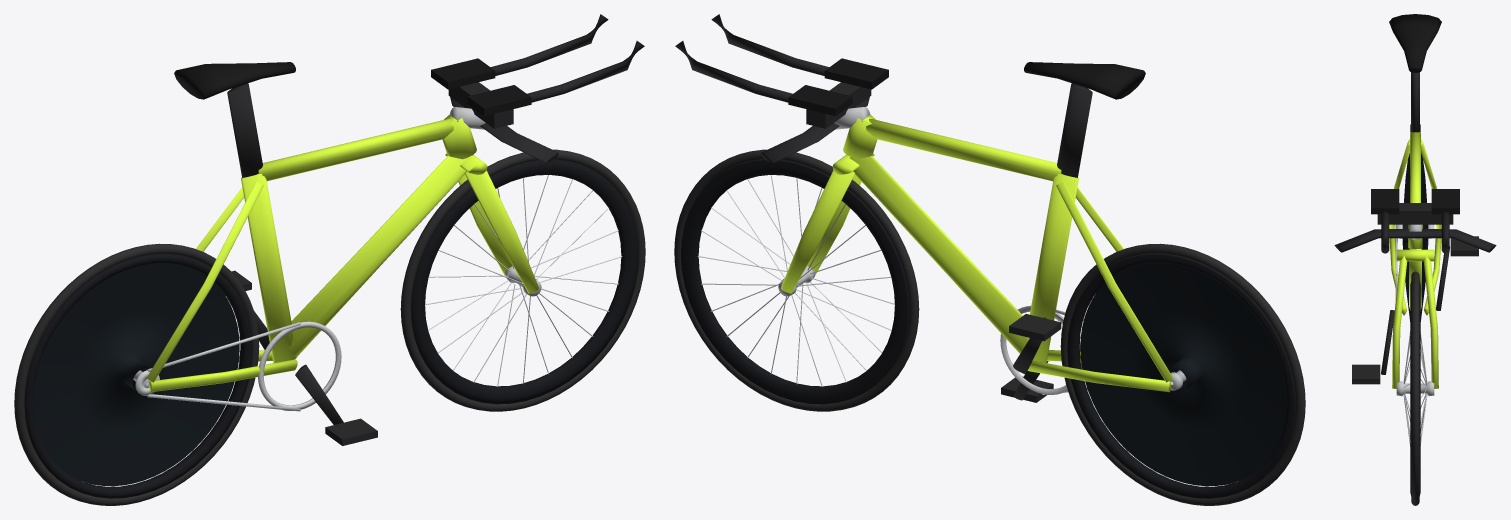
File: bike.glb
The picture shows the model from 3 angles, left to right: view 1: azimuth 30°, elevation 25°; view 2: azimuth 150°, elevation 25°; view 3: azimuth 270°, elevation 25°; orthographic projection. The views are drawn at different scales.
Parts seen in each view (by area): view 1: wheel_rear_disc, wheel_front_rim, wheel_rear_rim, wheel_rear_tyre, down_tube, wheel_front_tyre, seat_tube, top_tube, wheel_front_spokes, saddle, fork_l, seatstay_l (+13 smaller); view 2: wheel_rear_disc, wheel_front_rim, wheel_rear_rim, wheel_rear_tyre, wheel_front_tyre, down_tube, top_tube, seat_tube, wheel_front_spokes, saddle, fork_r, seatstay_r (+12 smaller); view 3: wheel_front_tyre, saddle, base_bar, pad_riser, fork_l, fork_r, wheel_rear_disc, wheel_front_rim, top_tube, armpad_l, armpad_r, wheel_front_spokes (+14 smaller).
Boxes of the visible parts, x1,y1,x2,y2 form: wheel_rear_disc: (33,263,239,486); wheel_front_rim: (411,159,638,404); wheel_rear_rim: (24,254,252,498); wheel_rear_tyre: (14,243,259,505); down_tube: (287,156,470,356); wheel_front_tyre: (400,149,645,411); seat_tube: (241,173,296,362); top_tube: (258,119,453,181); wheel_front_spokes: (425,175,622,386); saddle: (174,62,295,99); fork_l: (464,170,538,293); seatstay_l: (146,181,263,382); wheel_rear_disc: (1080,263,1286,486); wheel_front_rim: (681,159,908,404); wheel_rear_rim: (1067,254,1295,498); wheel_rear_tyre: (1060,243,1305,505); wheel_front_tyre: (674,149,919,411); down_tube: (849,156,1027,353); top_tube: (866,119,1061,181); seat_tube: (1027,173,1078,362); wheel_front_spokes: (697,175,894,386); saddle: (1024,62,1145,99); fork_r: (781,170,855,293); seatstay_r: (1056,181,1173,382); wheel_front_tyre: (1411,271,1419,505); saddle: (1389,14,1441,72); base_bar: (1334,229,1496,252); pad_riser: (1377,203,1453,224); fork_l: (1392,255,1407,388); fork_r: (1423,255,1438,388); wheel_rear_disc: (1402,153,1428,321); wheel_front_rim: (1410,281,1420,495); top_tube: (1410,132,1420,202); armpad_l: (1371,189,1399,214); armpad_r: (1431,189,1459,214); wheel_front_spokes: (1403,331,1427,446).
Bounding box in the file's own units: 1.6 × 1.01 × 0.4281.
